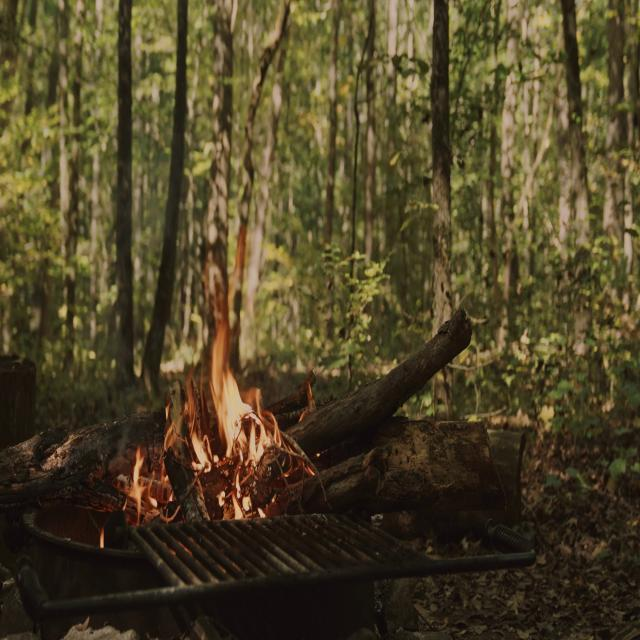Fire: (159, 281, 281, 516), (124, 437, 149, 524)
